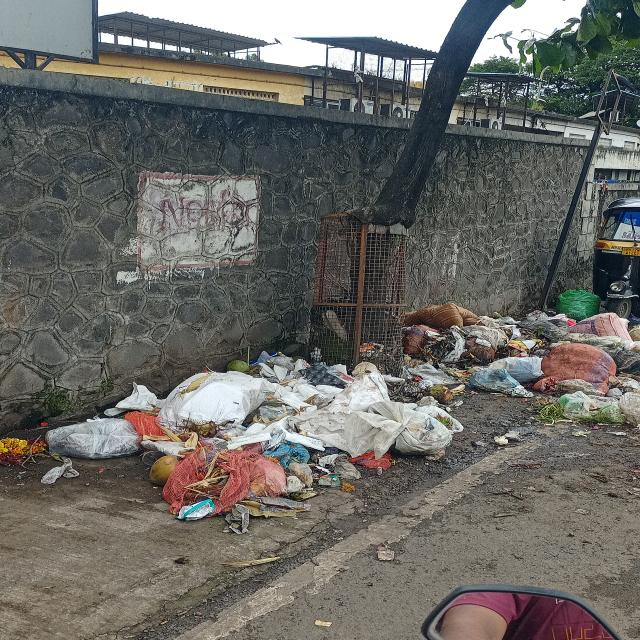garbage: (47, 355, 459, 508), (414, 300, 640, 422)
